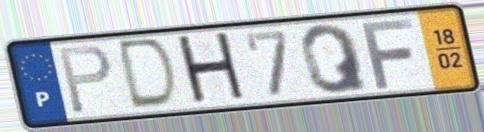7: (241, 27, 292, 100)
D: (117, 35, 181, 112)
F: (358, 17, 417, 92)
H: (172, 29, 251, 109)
P: (55, 43, 114, 117)
Q: (297, 22, 372, 96)
